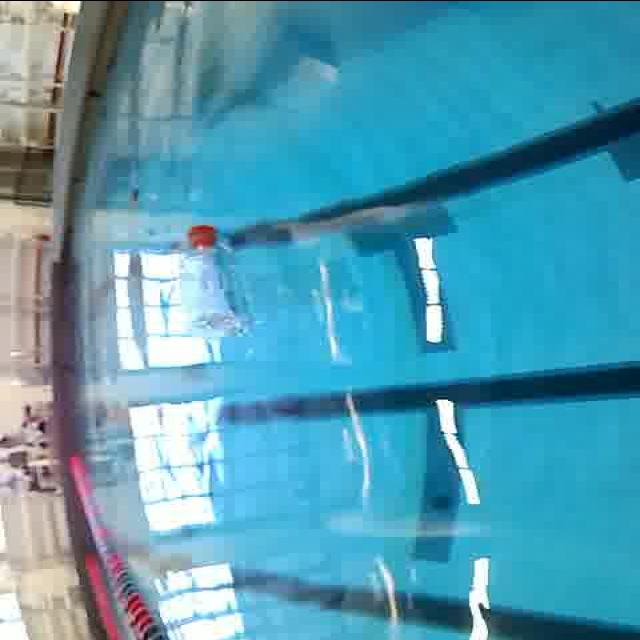Bottle: (174, 220, 248, 340)
